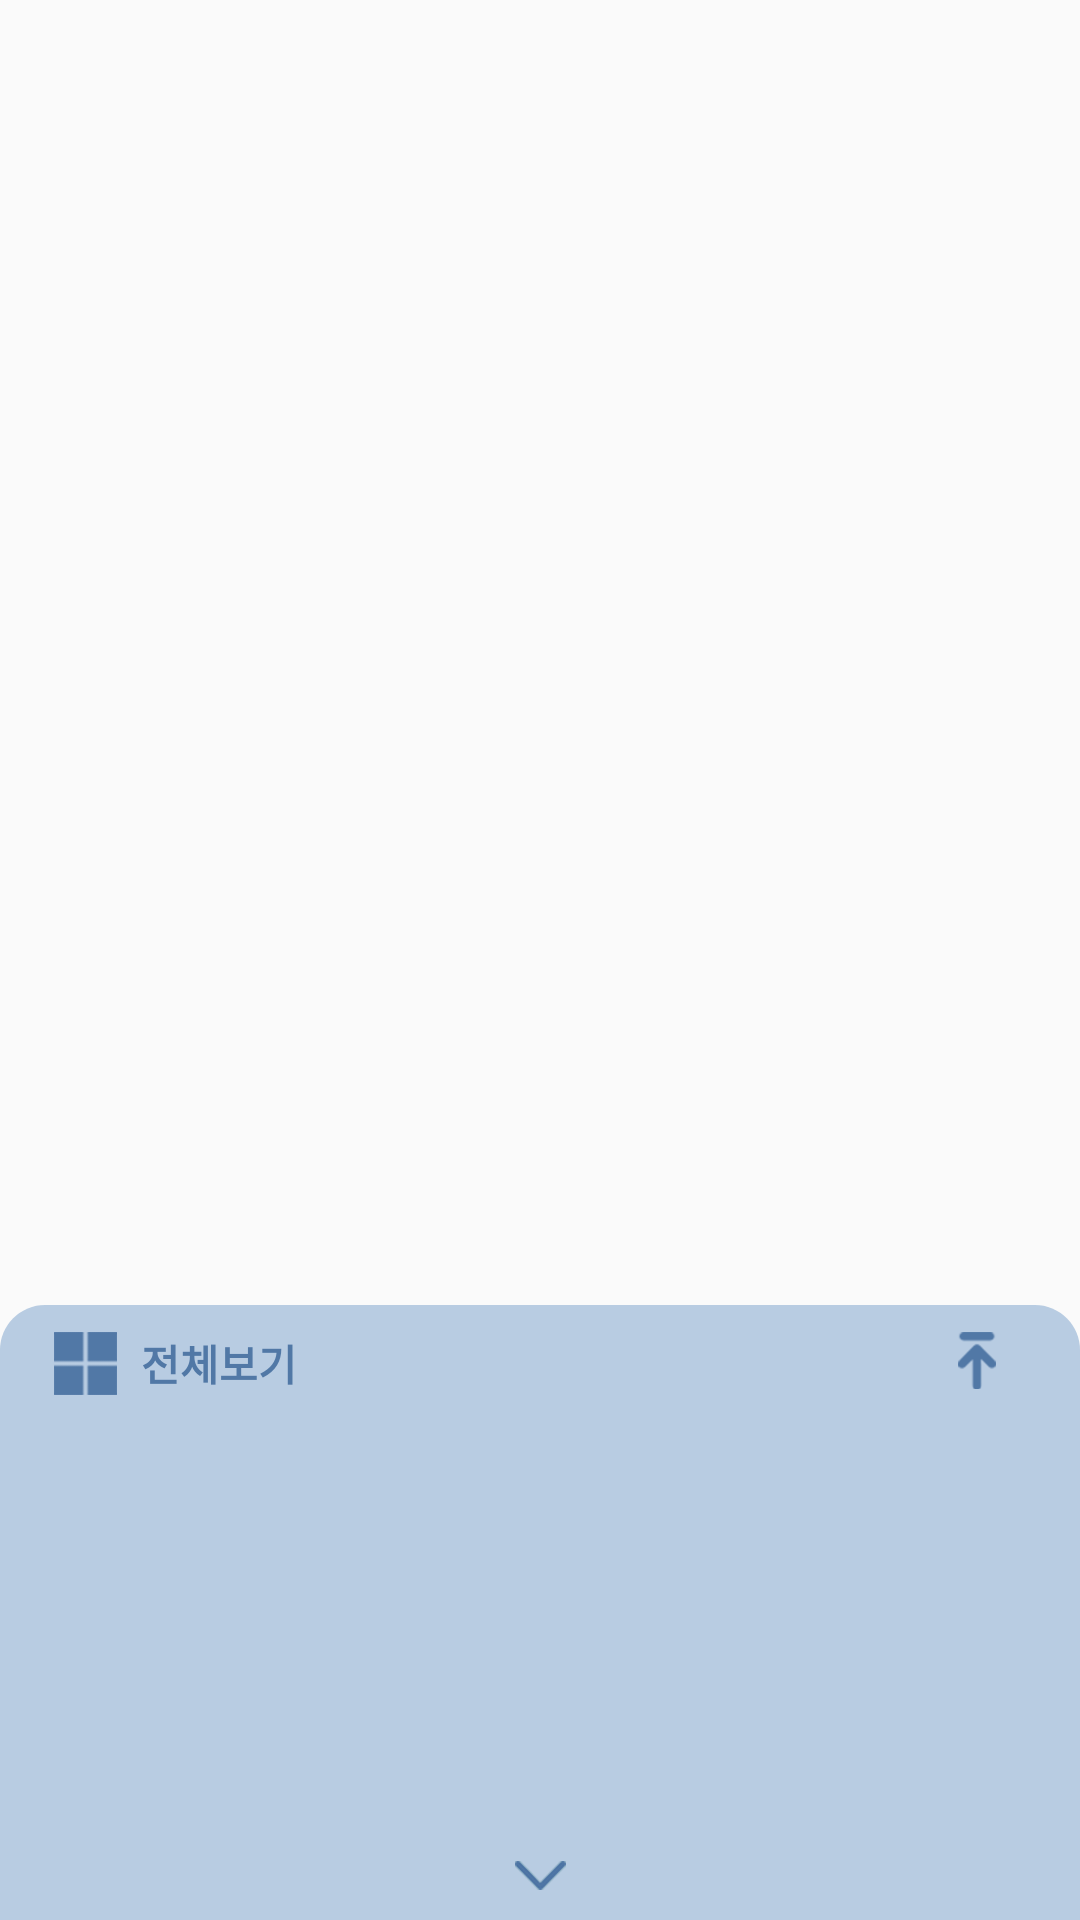

Icon bounding boxes for this 1080px×1920px phone screenshot, format Rect(x1, y1, x2, y2):
all files: Rect(54, 1332, 117, 1395)
down: Rect(515, 1861, 566, 1890)
upload: Rect(958, 1332, 996, 1389)
